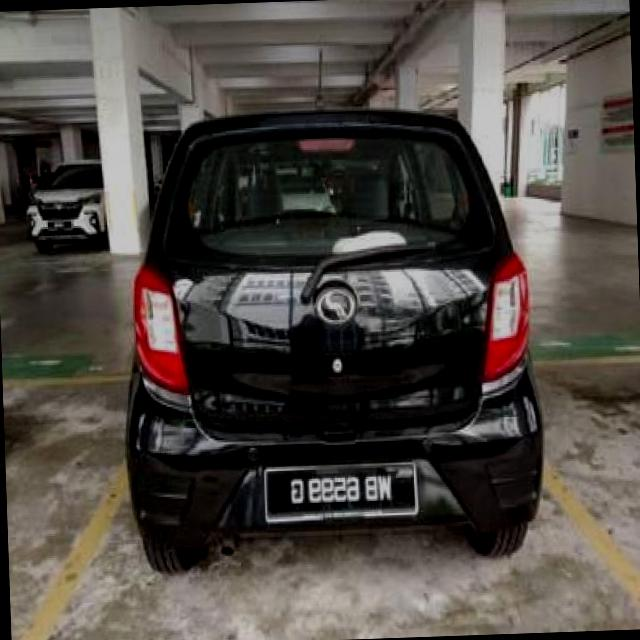PeroduaAxia: (111, 100, 550, 576)
